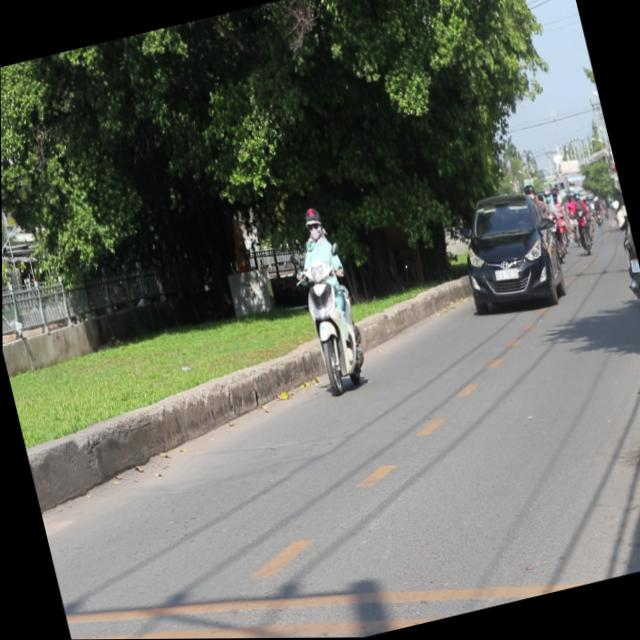helmet: (298, 204, 323, 240)
licenseplate: (279, 201, 372, 397)
